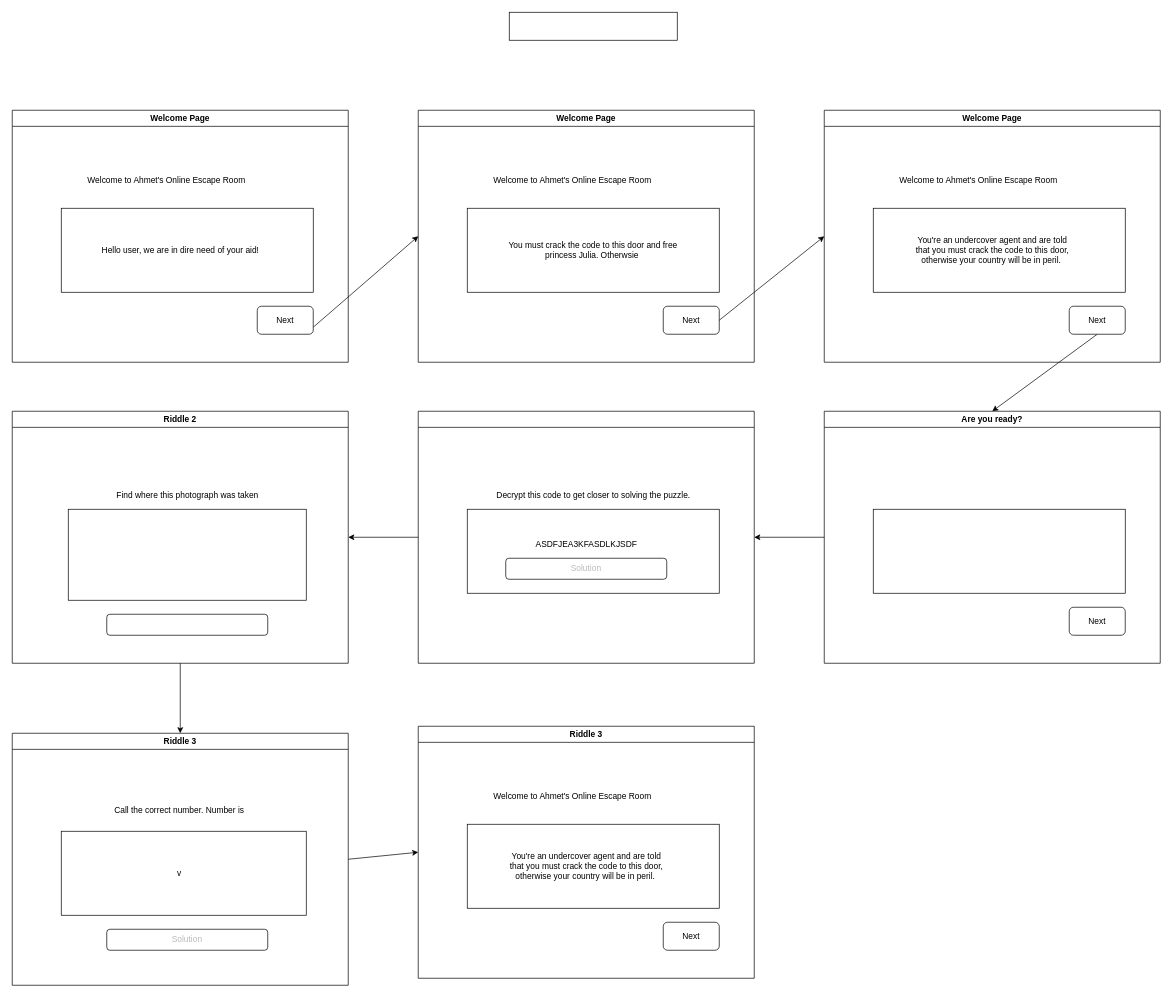
Some shapes in this 1173 by 998 pixel diagram are drawn without their labels. Here are the shapes that lost their labels. From the top down, the box of each, then its label:
(509, 12, 677, 40): fdsfsd
(418, 411, 754, 663): Riddle 1
(873, 509, 1125, 593): Are you ready to take on the challenge?
(106, 614, 268, 635): Enter with first letter as a capital
